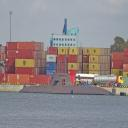submarine: (20, 60, 115, 94)
